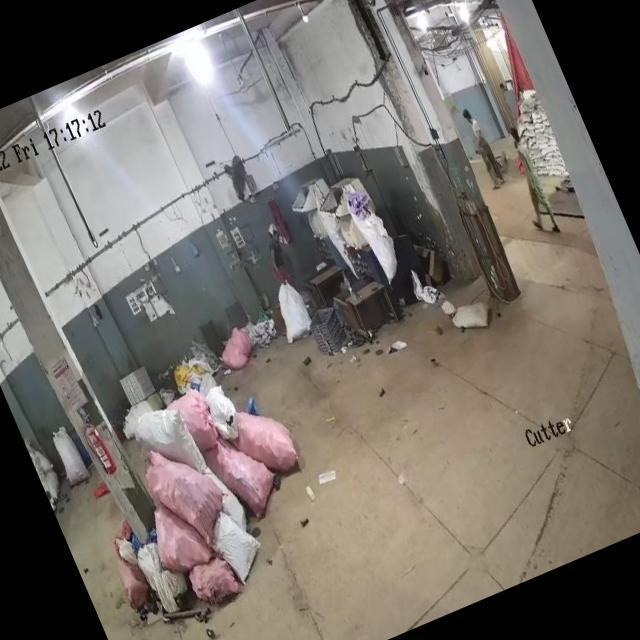person: (498, 128, 561, 238), (458, 100, 513, 194), (258, 220, 306, 303)
